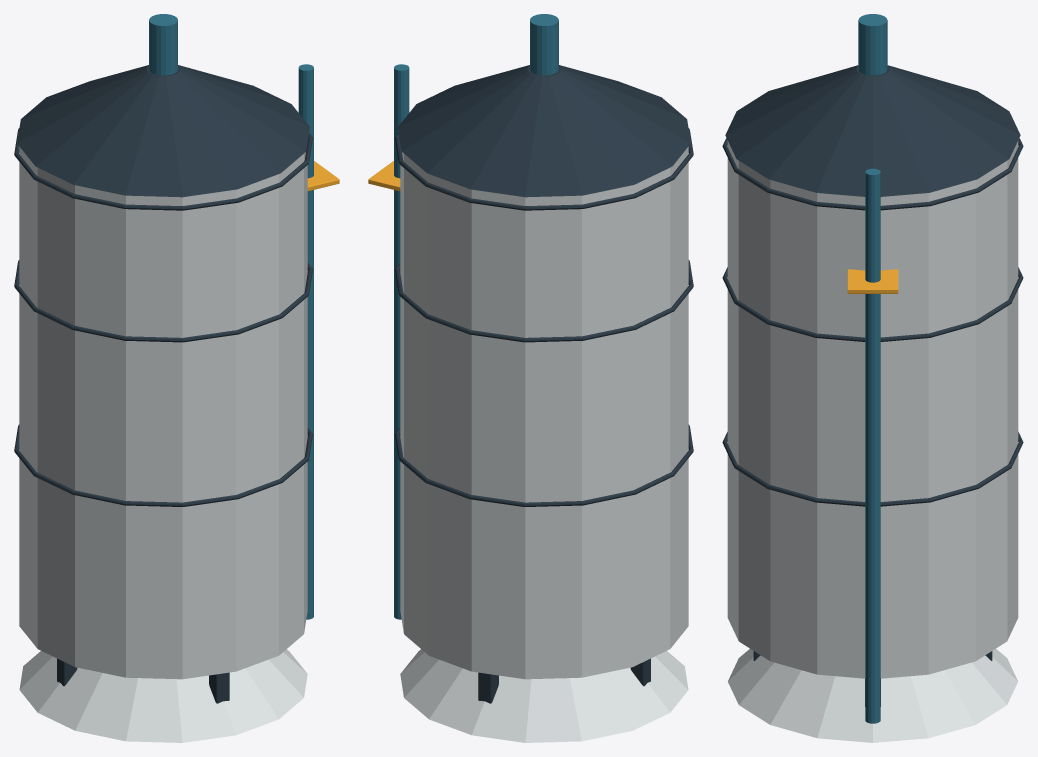
The model's file is silo-low.glb.
The picture shows the model from 3 angles, left to right: view 1: azimuth 30°, elevation 25°; view 2: azimuth 150°, elevation 25°; view 3: azimuth 270°, elevation 25°; orthographic projection.
Parts seen in each view (by area): view 1: silo_body, silo_roof, silo_hopper, silo_pipe, 环体.019, 环体.018, 环体.020, silo_vent, silo_leg.003, silo_platform; view 2: silo_body, silo_roof, silo_hopper, silo_pipe, 环体.019, 环体.018, 环体.020, silo_vent, silo_leg.001, silo_platform; view 3: silo_body, silo_roof, silo_hopper, silo_pipe, 环体.018, 环体.019, 环体.020, silo_vent, silo_platform.
Part boxes in pixels (x1,y1,x2,y2): silo_body: (19,146,307,679); silo_roof: (17,65,309,197); silo_hopper: (19,649,307,742); silo_pipe: (298,64,313,619); 环体.019: (14,260,312,342); 环体.018: (14,424,312,506); 环体.020: (14,128,312,210); silo_vent: (149,14,177,75); silo_leg.003: (209,672,229,703); silo_platform: (307,161,339,191); silo_body: (400,146,688,679); silo_roof: (398,65,690,197); silo_hopper: (400,649,688,742); silo_pipe: (394,64,409,619); 环体.019: (395,260,693,342); 环体.018: (395,424,693,506); 环体.020: (395,128,693,210); silo_vent: (530,14,558,75); silo_leg.001: (478,672,498,703); silo_platform: (368,161,400,191); silo_body: (727,141,1018,678); silo_roof: (725,65,1020,196); silo_hopper: (728,649,1017,742); silo_pipe: (865,168,880,723); 环体.018: (722,432,1023,506); 环体.019: (722,267,1023,341); 环体.020: (722,138,1023,210); silo_vent: (858,14,887,75); silo_platform: (847,269,898,293).
Size of the model in its own units: 14.02 by 30.55 by 12.44.
